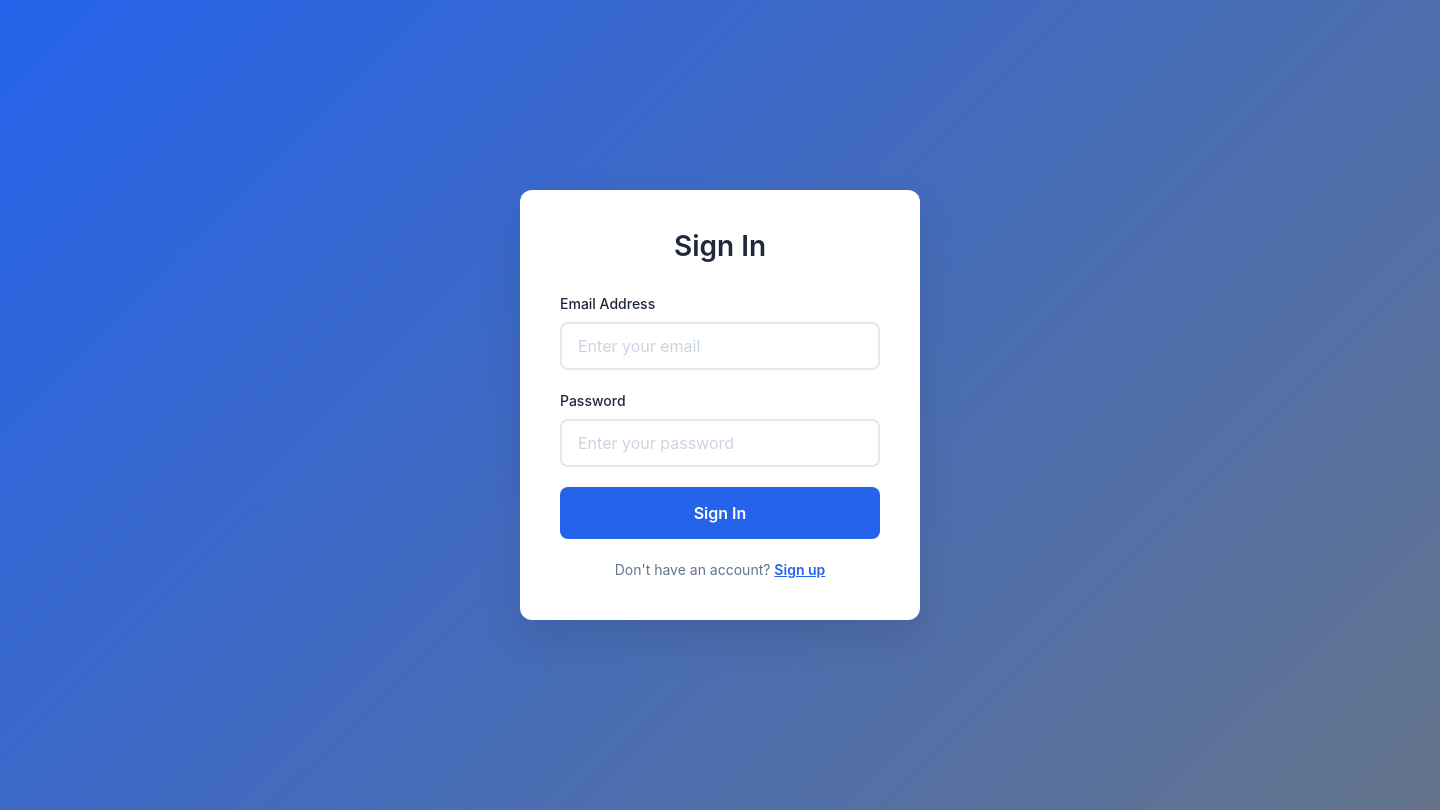
Scenario: LoginPage › validates required fields on login
Click the button "Sign In" at (720, 513), box x1=560 y1=487 x2=880 y2=539
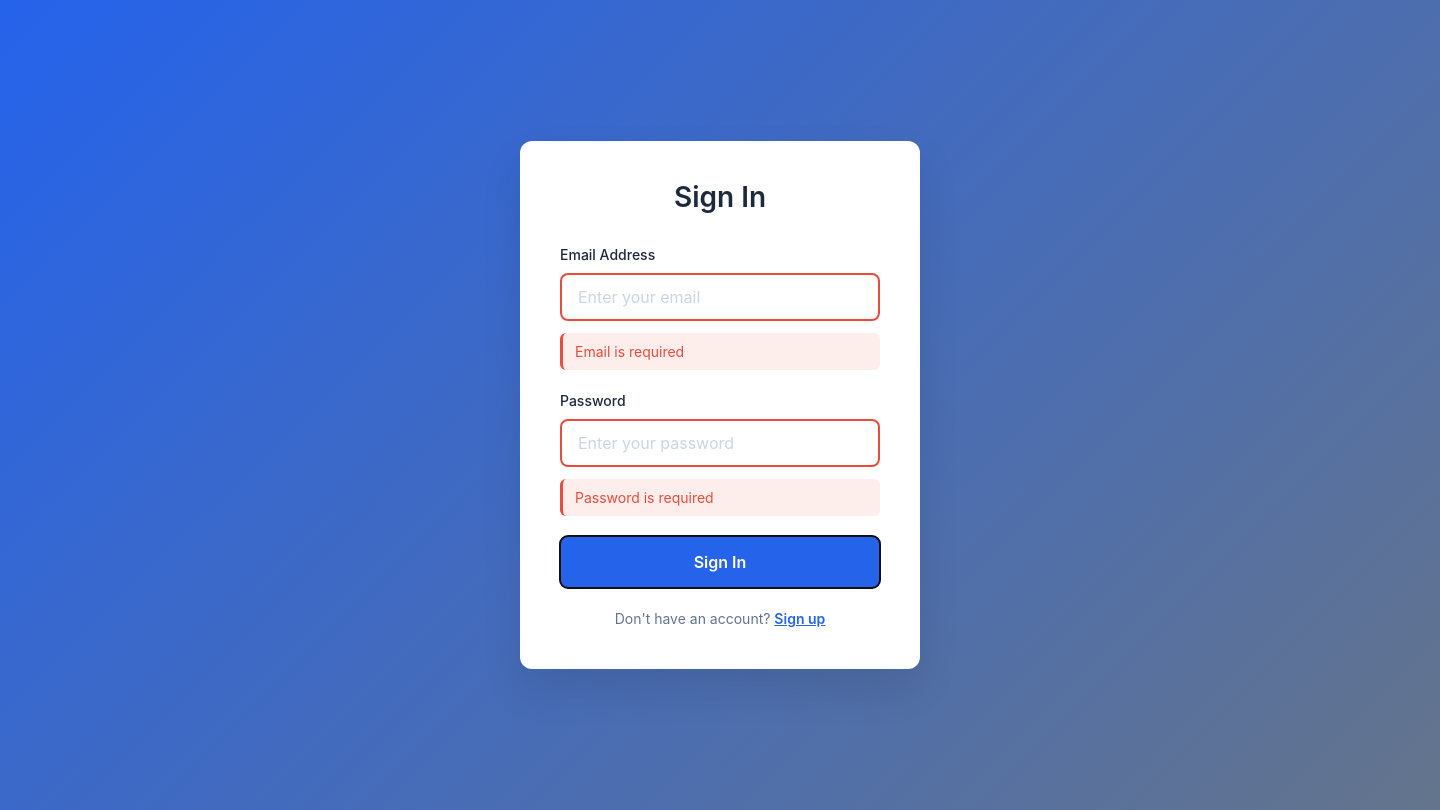
Expected: the text "Email is required" is shown, x1=560 y1=333 x2=880 y2=370
Expected: the text "Password is required" is shown, x1=560 y1=479 x2=880 y2=516
